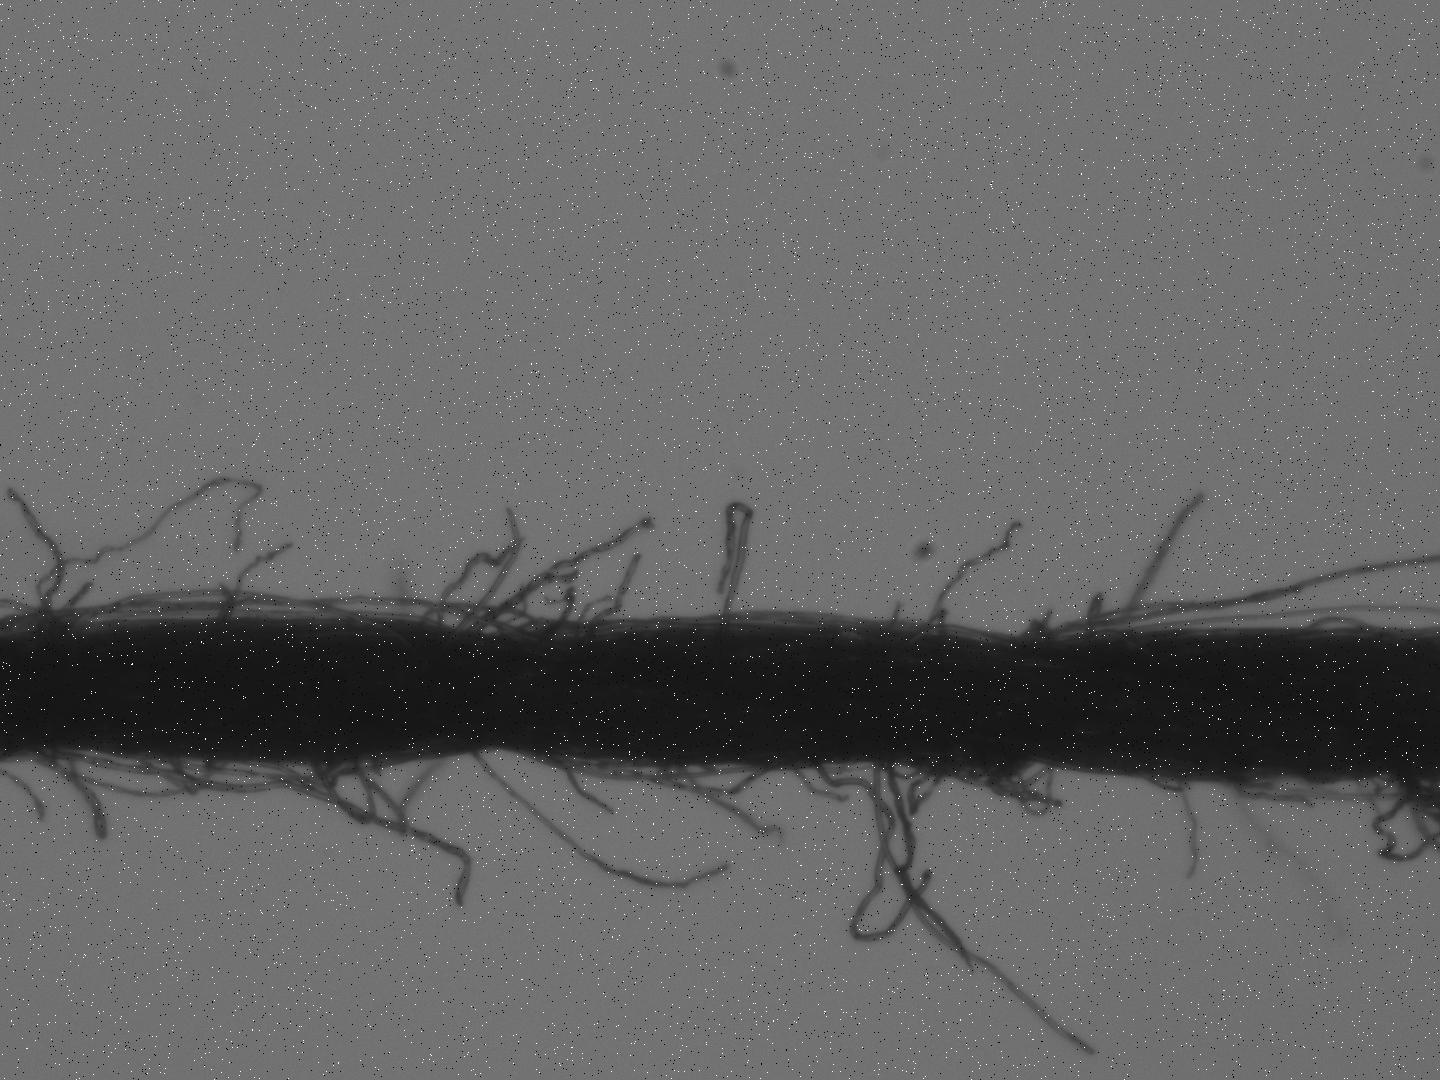loop_fiber: (54, 588, 386, 632), (514, 746, 757, 788), (909, 762, 1052, 819), (146, 757, 348, 795), (416, 611, 553, 653), (304, 761, 380, 827), (150, 759, 220, 792), (1294, 617, 1381, 638), (1018, 617, 1056, 648), (879, 757, 923, 781)
protruding_fiber: (471, 757, 731, 892), (1118, 489, 1204, 636), (937, 518, 1024, 632), (545, 751, 616, 813), (1172, 776, 1201, 883)
